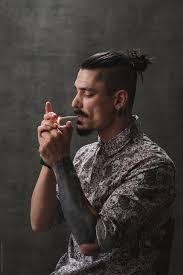fire: (53, 113, 61, 130)
